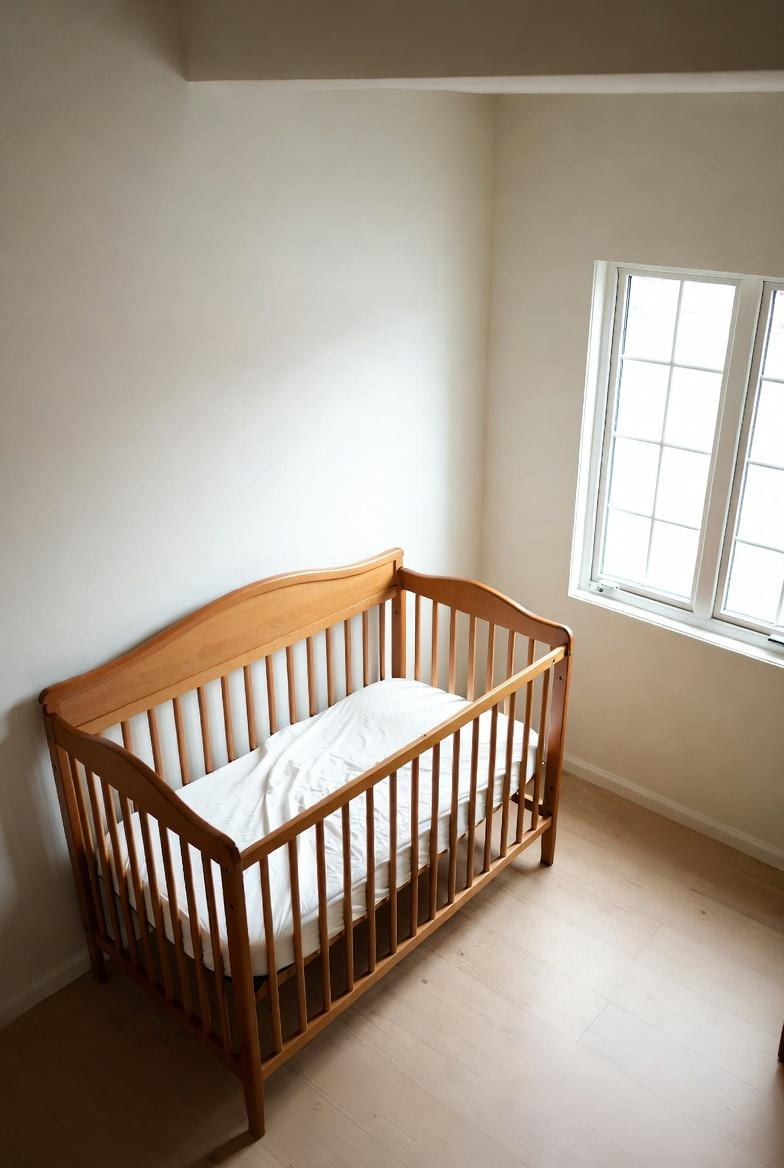crib: (13, 530, 590, 1145)
